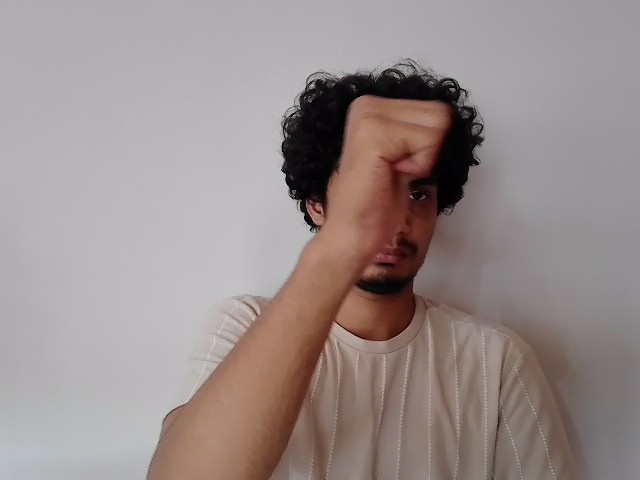how: (314, 94, 454, 277)
